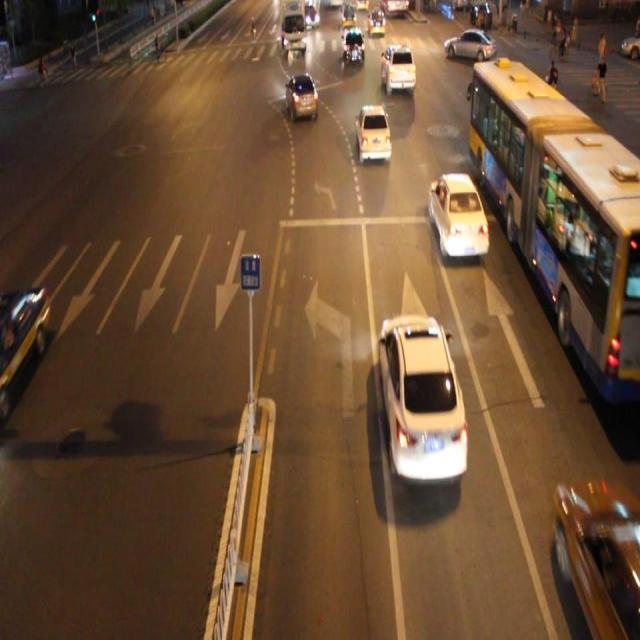car: (380, 312, 467, 477), (554, 477, 640, 640), (0, 283, 50, 406), (428, 172, 489, 262), (354, 102, 391, 166), (381, 42, 416, 94), (285, 71, 317, 119)
van: (467, 60, 640, 401)
